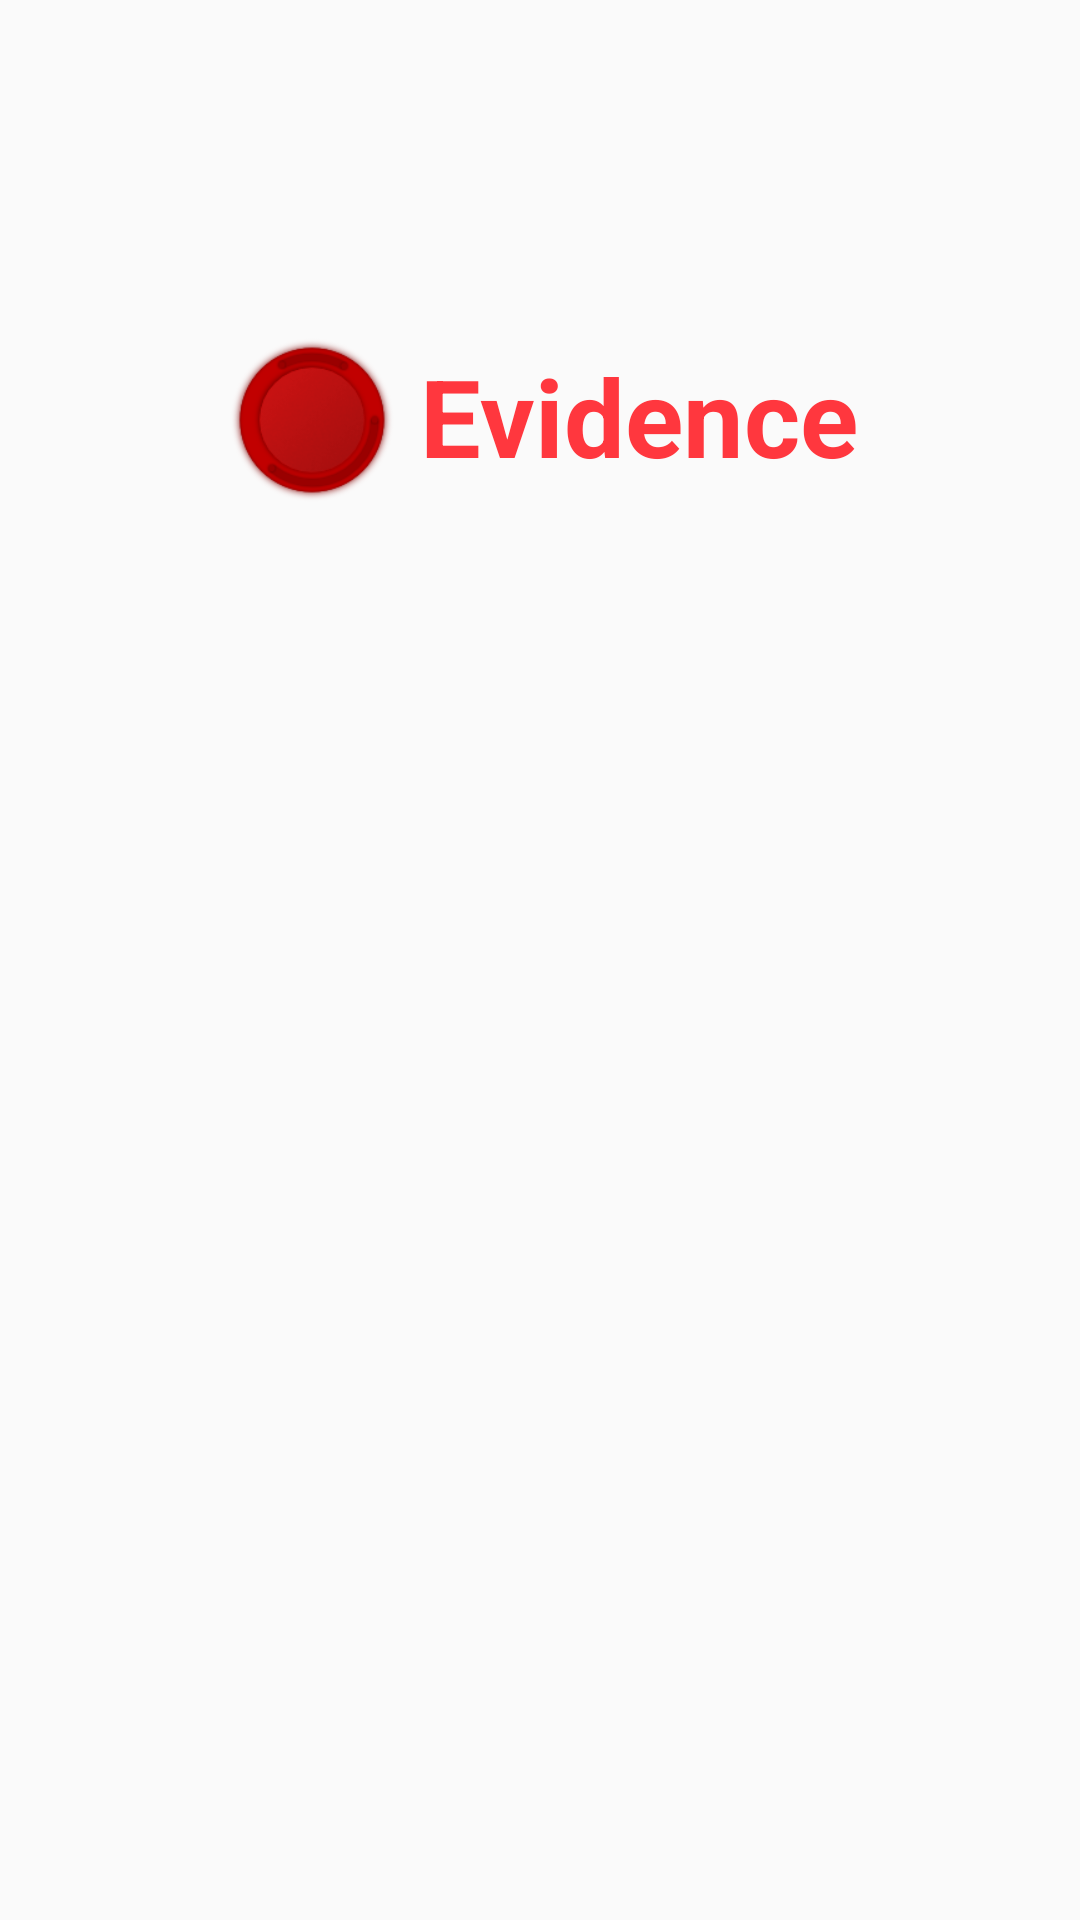

Icons on this 1080×1920 Android screen, each with the point to tap as (x,y):
round: (312,420)
